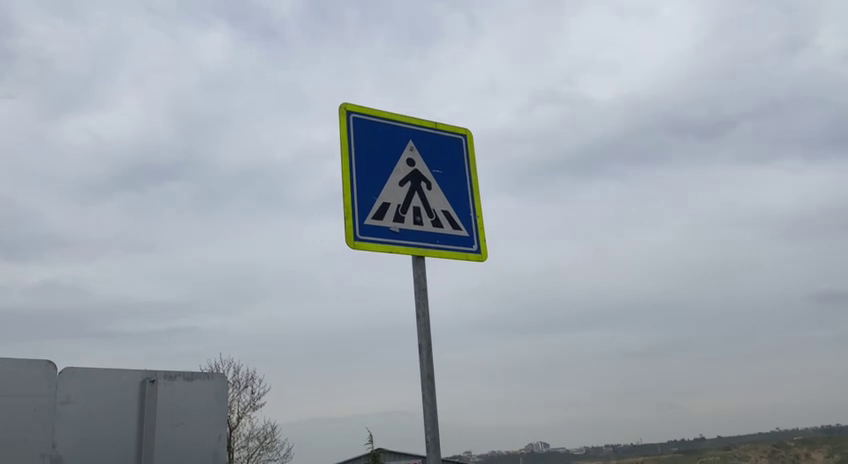pedestrianCrossing: (337, 101, 490, 266)
